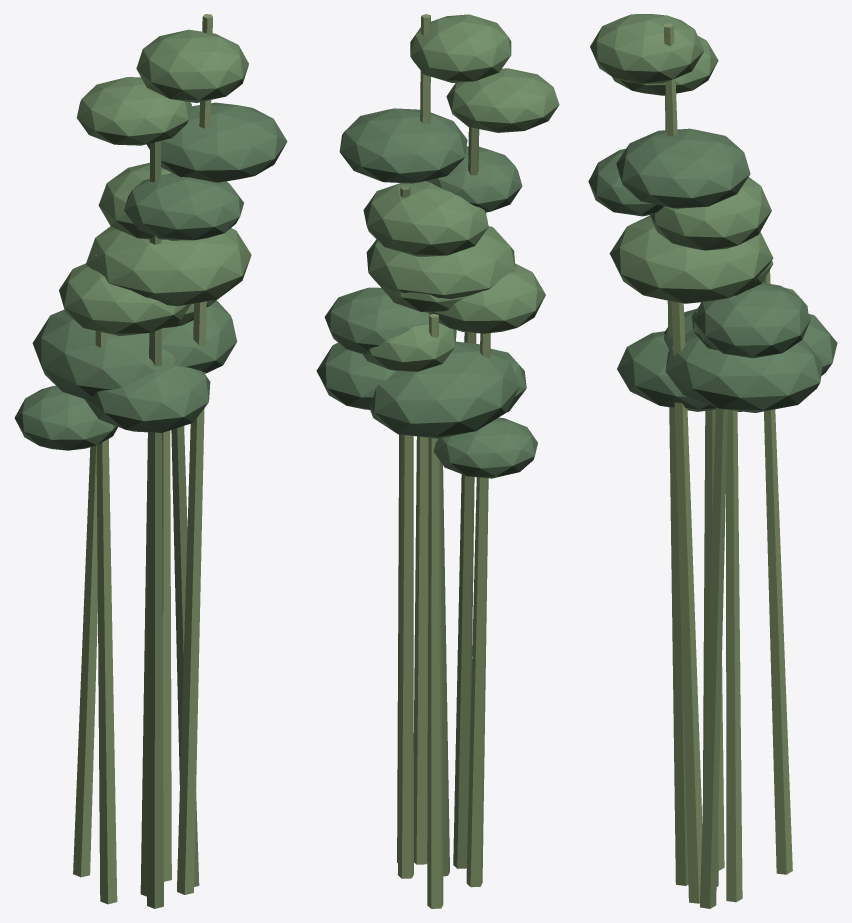
The model's file is bamboo_a.glb.
3 renders of one model, left to right at view 1: azimuth 30°, elevation 25°; view 2: azimuth 150°, elevation 25°; view 3: azimuth 270°, elevation 25°, orthographic. The views are drawn at different scales.
Visible parts, largest first — view 1: bamboo_a; view 2: bamboo_a; view 3: bamboo_a.
Boxes of the visible parts, x1,y1,x2,y2 form: bamboo_a: (14, 14, 287, 908); bamboo_a: (316, 14, 559, 908); bamboo_a: (588, 14, 837, 908).
Size of the model in its own units: 2.61 by 9.73 by 2.5.
